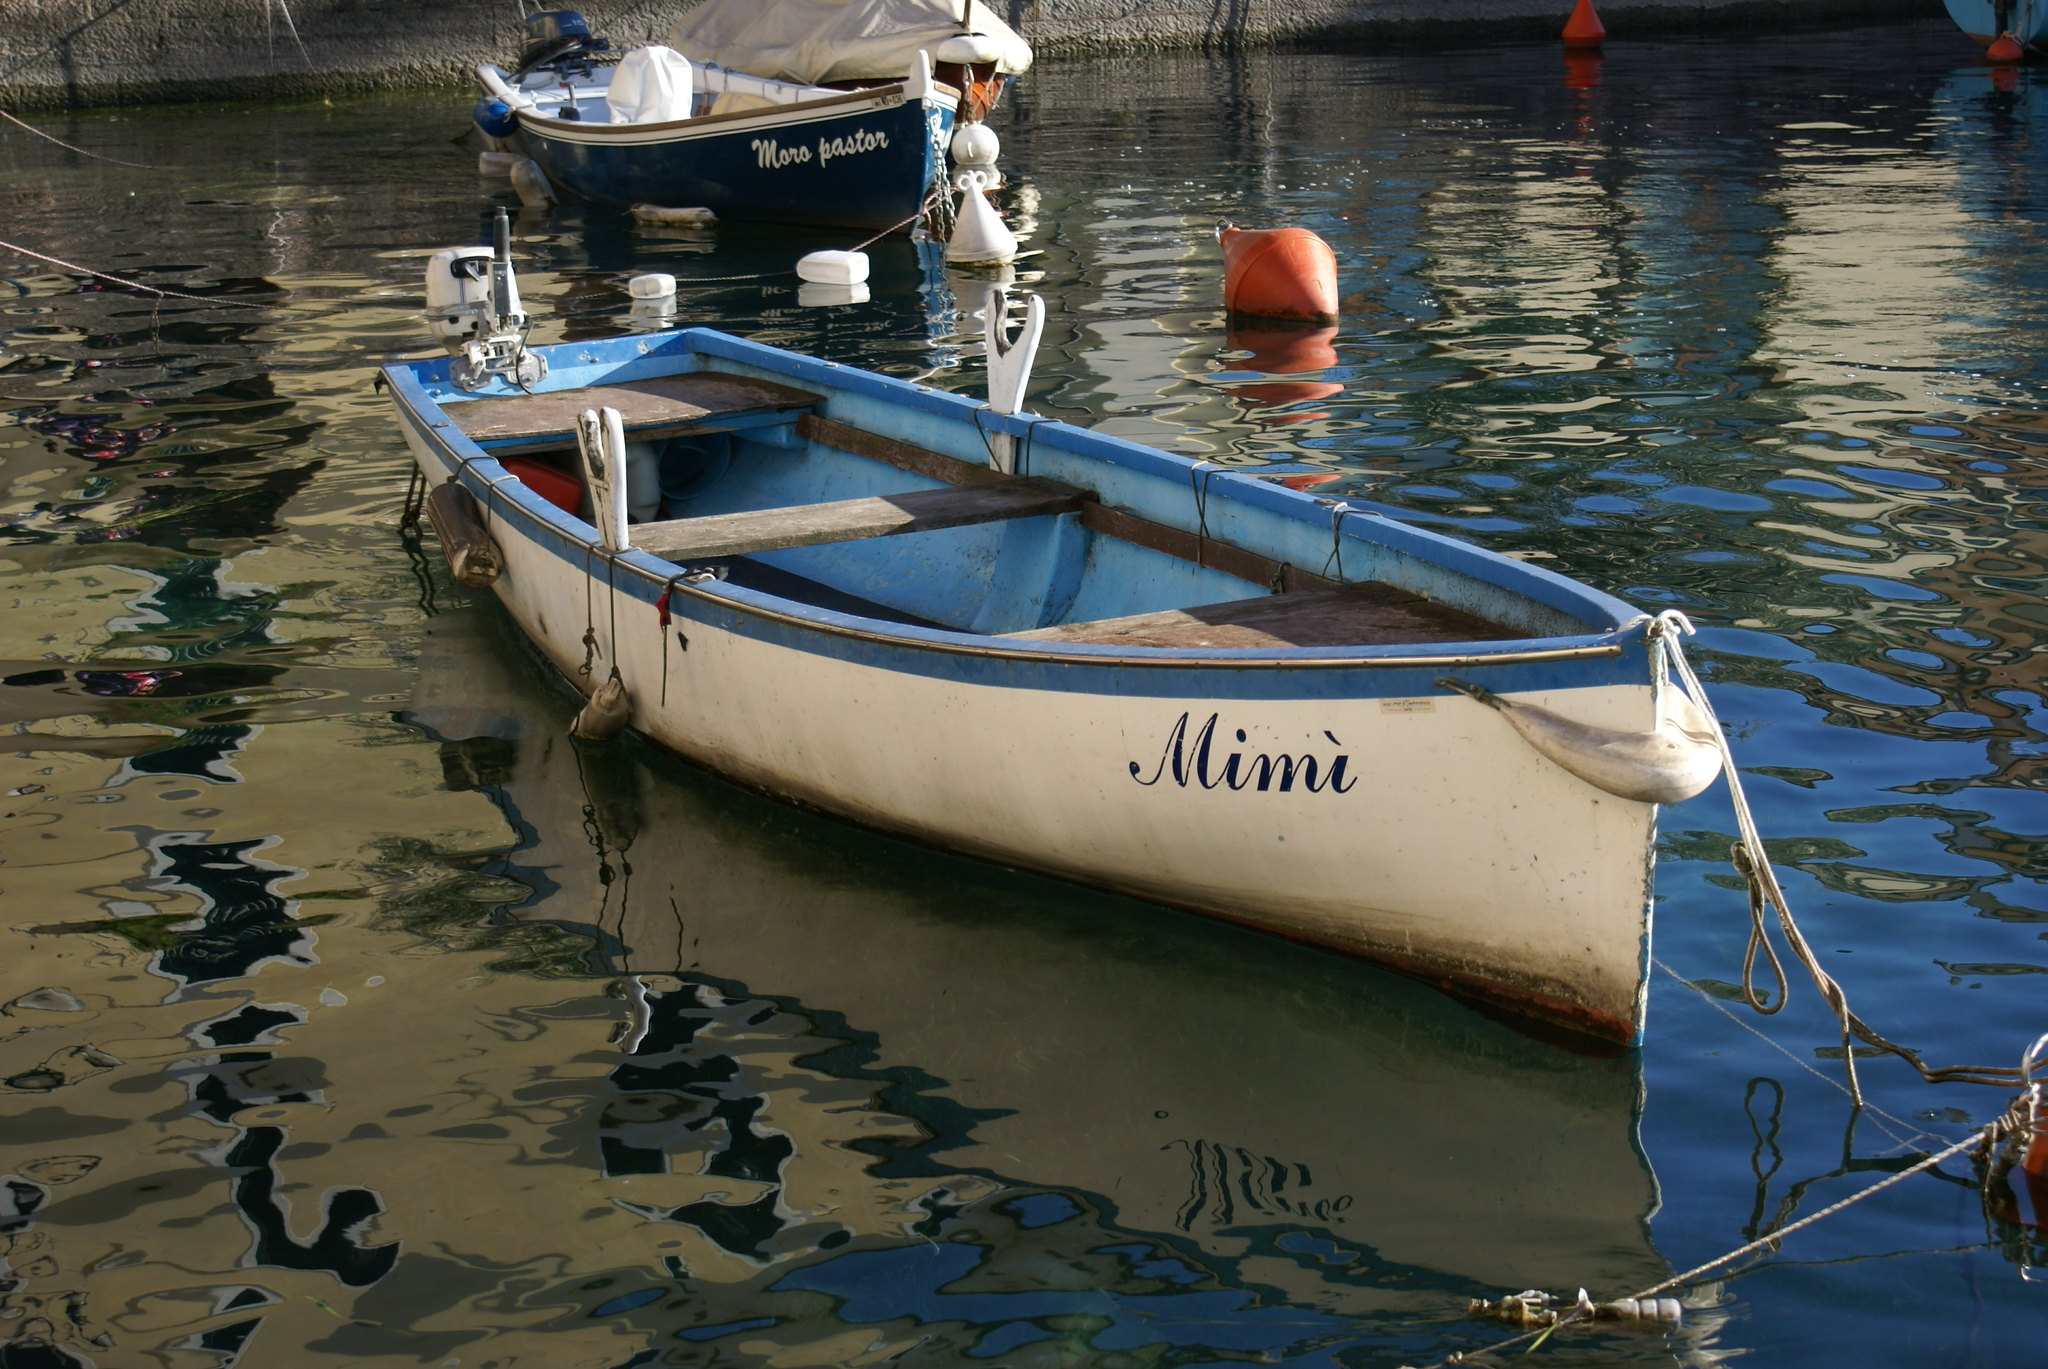boat: (377, 206, 1735, 1027), (451, 18, 990, 248)
